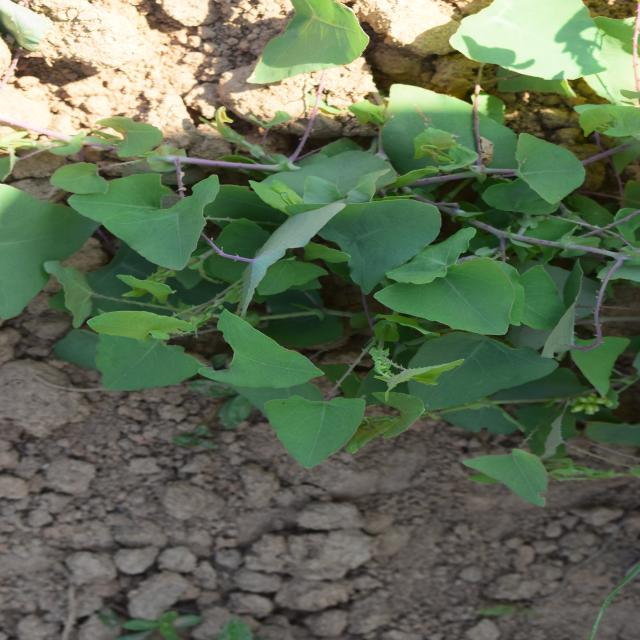Asiatic_Smartweed: (185, 62, 426, 395), (277, 184, 448, 540), (367, 47, 538, 308), (544, 243, 640, 373), (440, 514, 508, 589)
